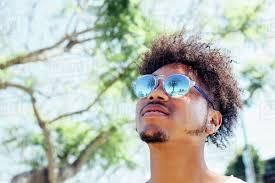sunglasses: (129, 68, 200, 101)
